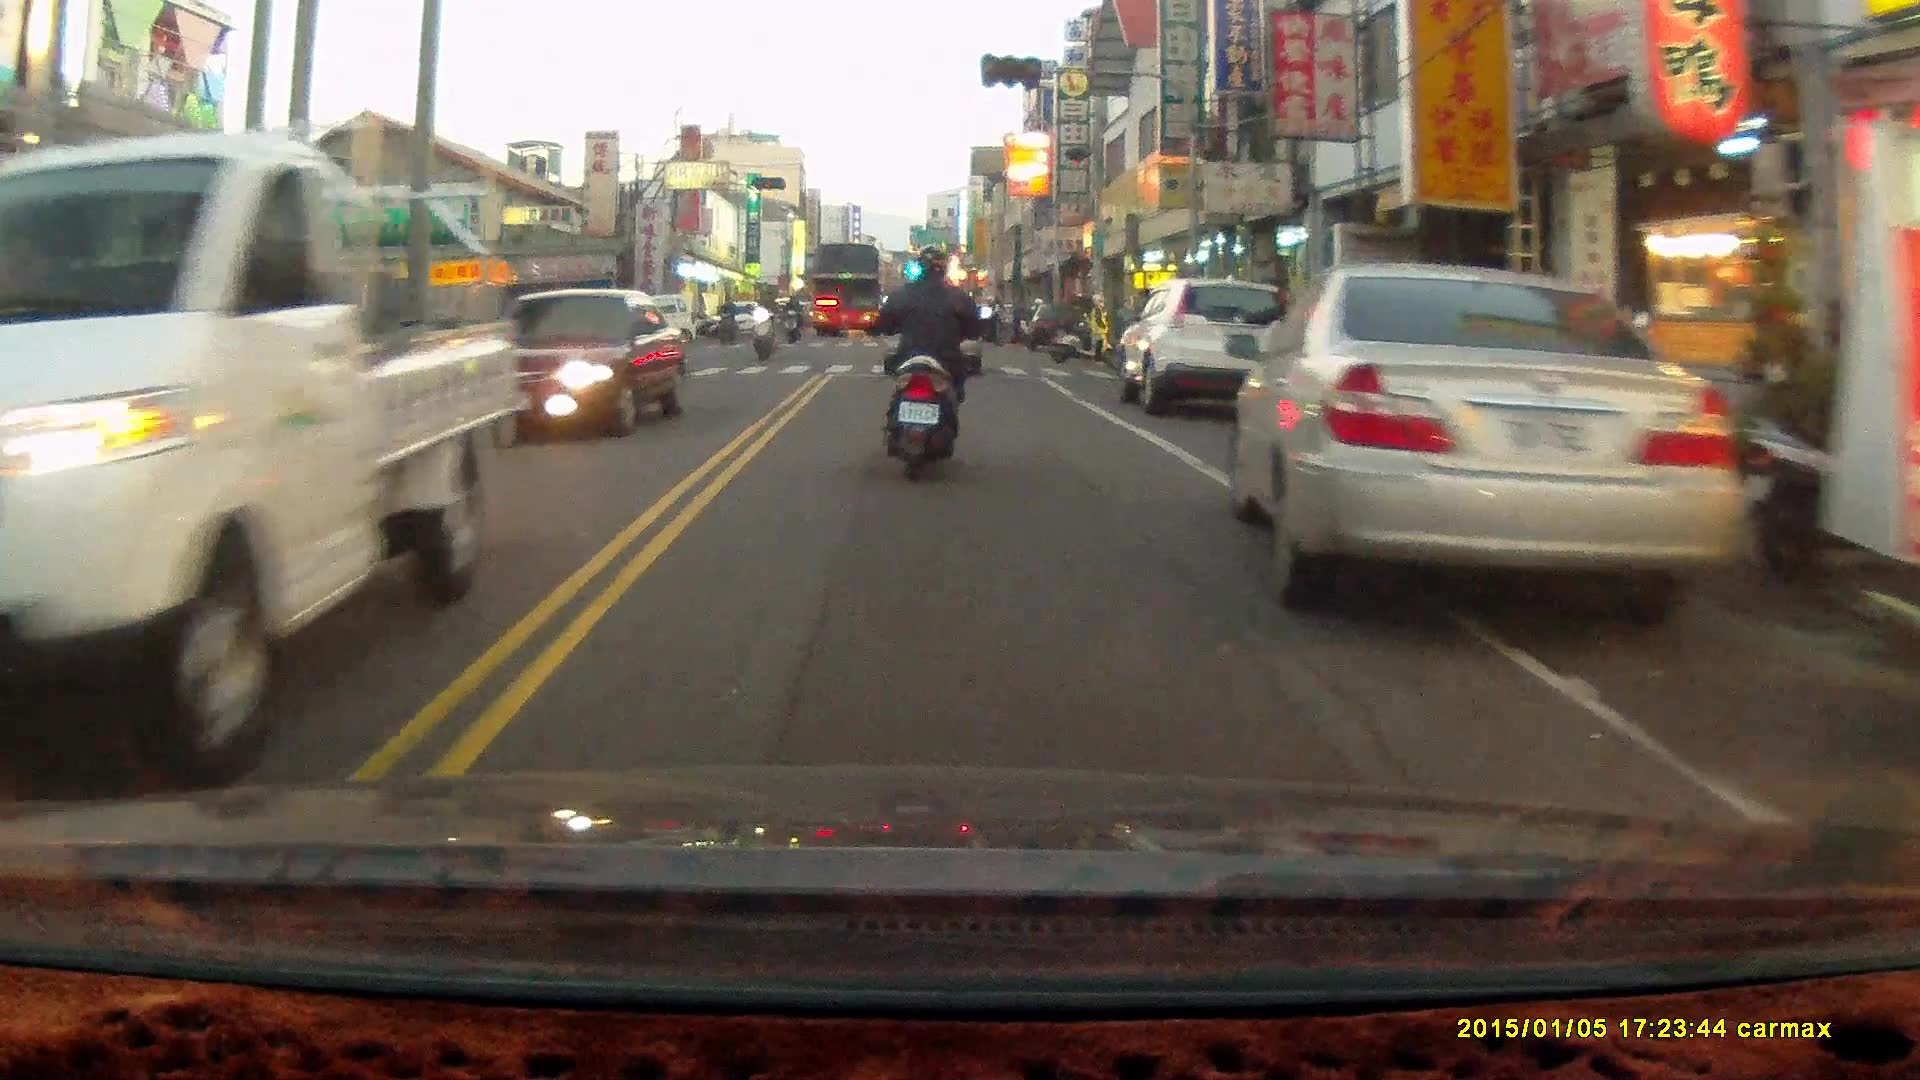pedestrian: (1086, 290, 1110, 366)
rider: (871, 245, 993, 482), (746, 283, 776, 359), (714, 291, 736, 345), (782, 290, 802, 347)
vehicle: (3, 131, 507, 780), (1225, 264, 1736, 631), (448, 289, 694, 450), (1121, 277, 1290, 414), (807, 246, 889, 338)
